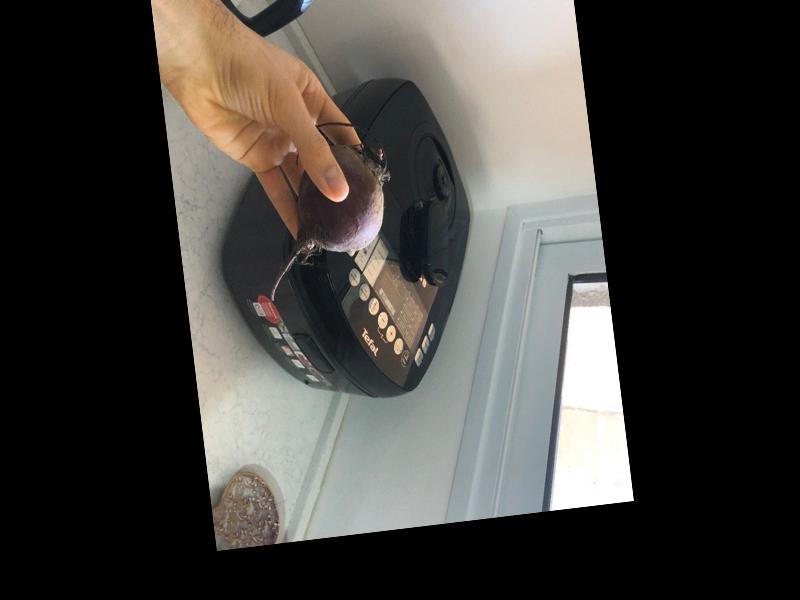Beet: (249, 118, 403, 300)
